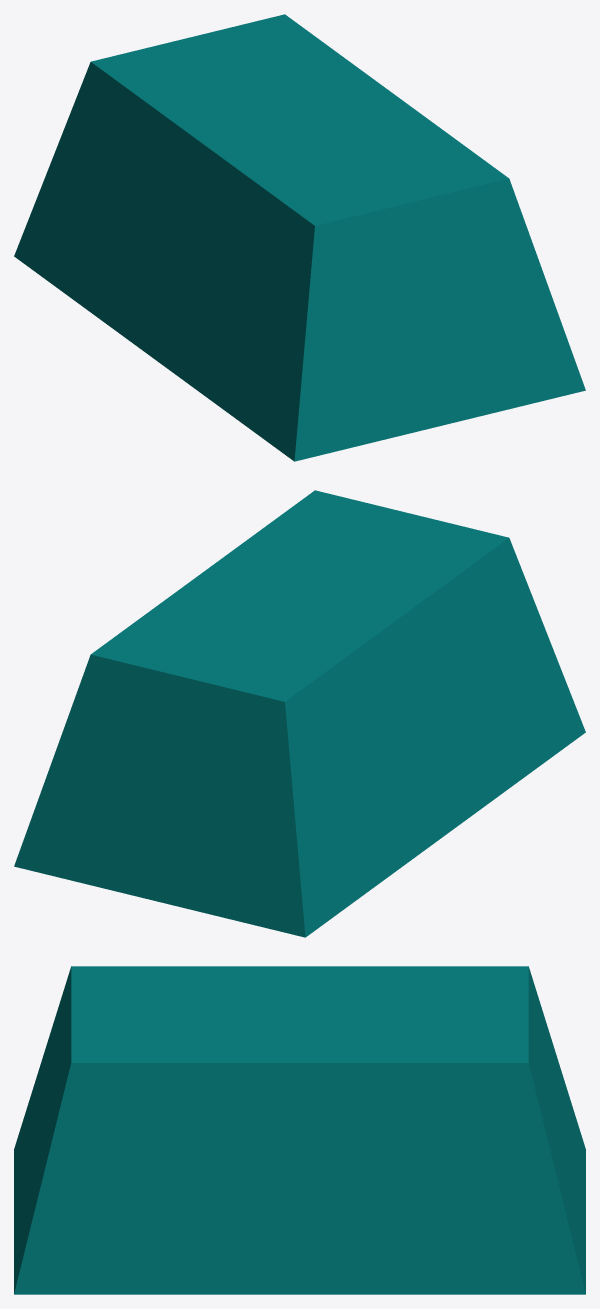
Rendered from BlueSteel.fbx.
3 renders of one model, top to bottom at view 1: azimuth 30°, elevation 25°; view 2: azimuth 150°, elevation 25°; view 3: azimuth 270°, elevation 25°, orthographic.
Visible parts, largest first — view 1: Blue Steel; view 2: Blue Steel; view 3: Blue Steel.
Boxes of the visible parts, x1=… form: Blue Steel: x1=14, y1=14, x2=585, y2=461; Blue Steel: x1=14, y1=490, x2=585, y2=937; Blue Steel: x1=14, y1=966, x2=585, y2=1294.
Size of the model in its own units: 300 by 200 by 500.
